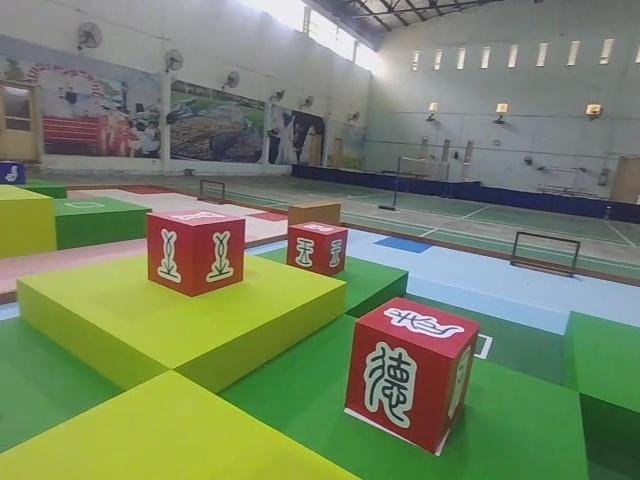R2 Fake: (341, 294, 482, 456)
R2 Real: (143, 207, 248, 299), (284, 220, 350, 278)
